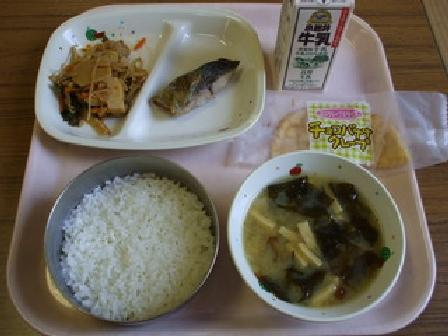Fish: (141, 44, 248, 126)
Milk: (271, 0, 361, 97)
Rice: (52, 160, 216, 330)
Soups: (234, 157, 406, 315)
pastry: (251, 93, 438, 171)
salad with sauce: (51, 35, 145, 134)
